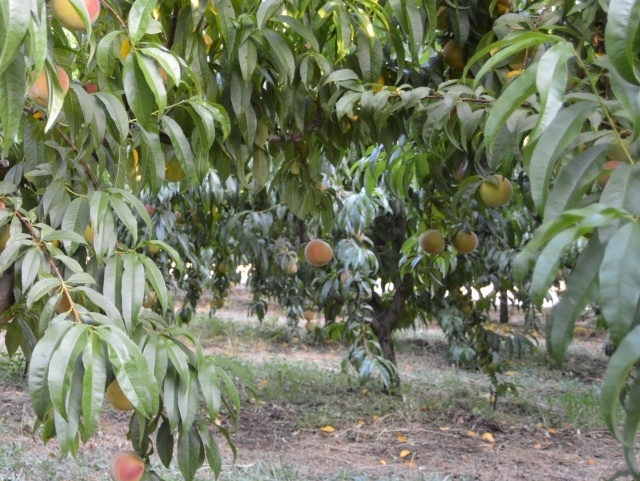peach: (24, 61, 73, 108), (47, 1, 104, 34), (476, 170, 518, 211), (104, 375, 139, 415), (438, 34, 473, 72), (595, 153, 628, 192), (301, 234, 336, 270), (416, 224, 449, 257), (451, 225, 481, 256)
